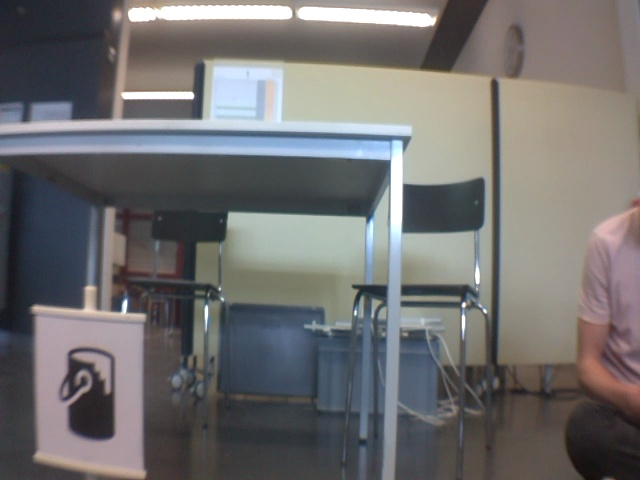bucket: (53, 341, 117, 444)
